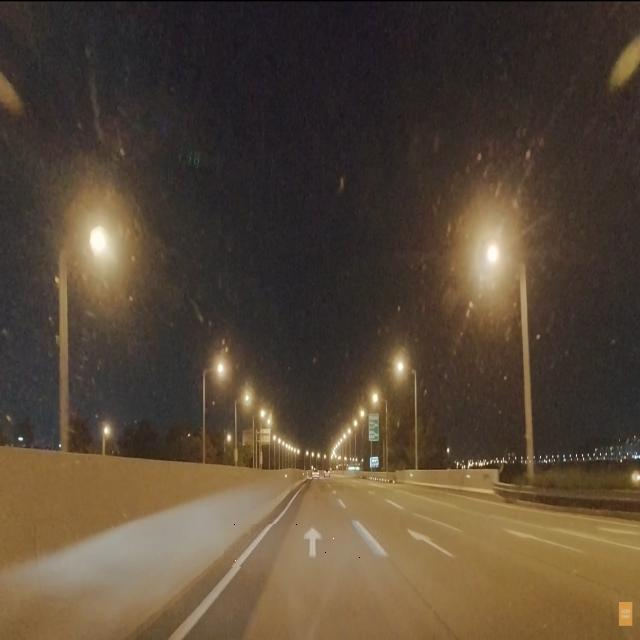forward: (225, 524, 393, 567)
